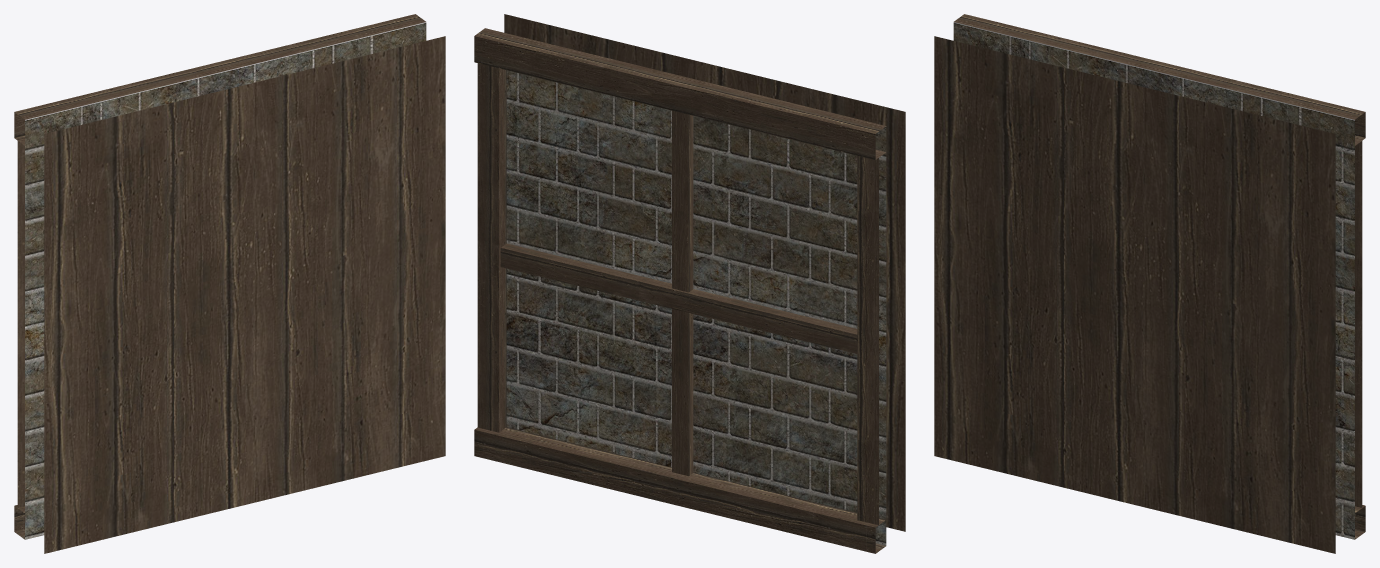
File: ARC1010206.fbx
The picture shows the model from 3 angles, left to right: view 1: azimuth 30°, elevation 25°; view 2: azimuth 150°, elevation 25°; view 3: azimuth 330°, elevation 25°; orthographic projection.
Parts seen in each view (by area): view 1: smARC1010206; view 2: smARC1010206; view 3: smARC1010206.
Boxes of the visible parts, x1,y1,x2,y2 form: smARC1010206: [14, 14, 445, 553]; smARC1010206: [474, 14, 905, 553]; smARC1010206: [934, 14, 1365, 553].
Bounding box in the file's own units: 268 × 268 × 34.9.
Materials: 1 (1 with a texture image).
